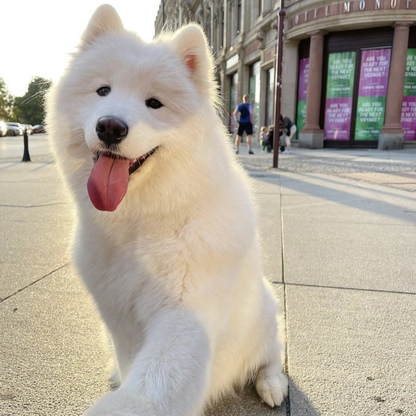samoyed: (39, 1, 301, 416)
